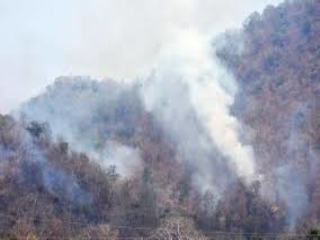smoke: (154, 29, 266, 196), (57, 115, 148, 190)
